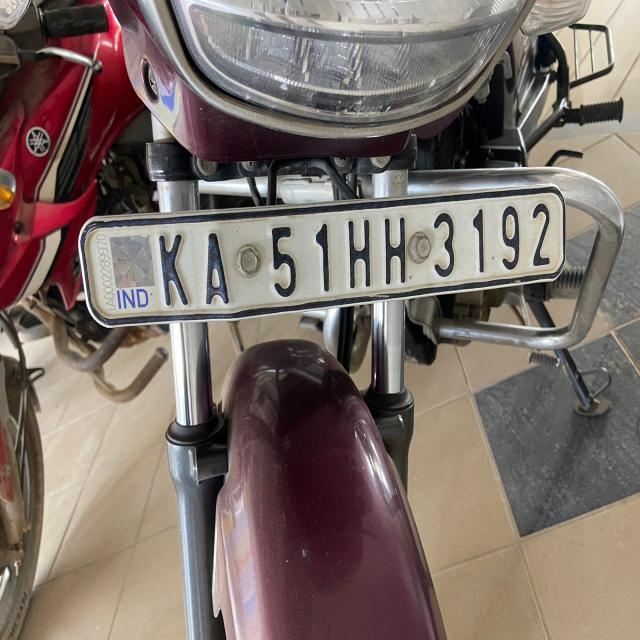1: (310, 215, 337, 294), (468, 202, 491, 278)
3: (427, 208, 462, 289)
5: (263, 212, 305, 301)
9: (498, 202, 527, 274)
A: (203, 227, 233, 313)
H: (377, 211, 412, 296), (342, 215, 379, 291)
K: (147, 226, 196, 310)
